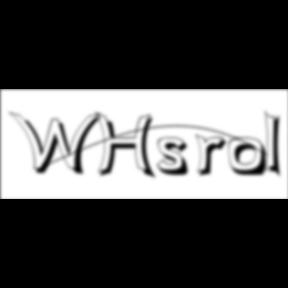H: (95, 112, 161, 182)
W: (9, 110, 107, 178)
l: (264, 108, 288, 182)
o: (228, 137, 270, 179)
r: (195, 134, 233, 180)
s: (158, 137, 197, 179)
